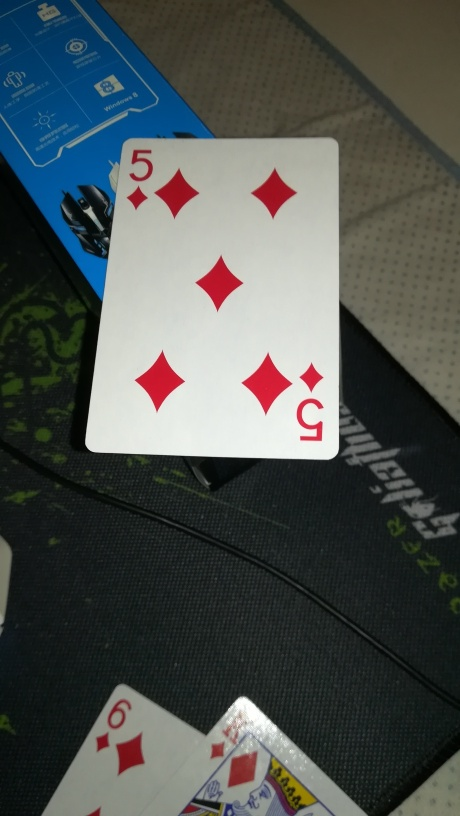fk 5: (82, 134, 346, 462)
